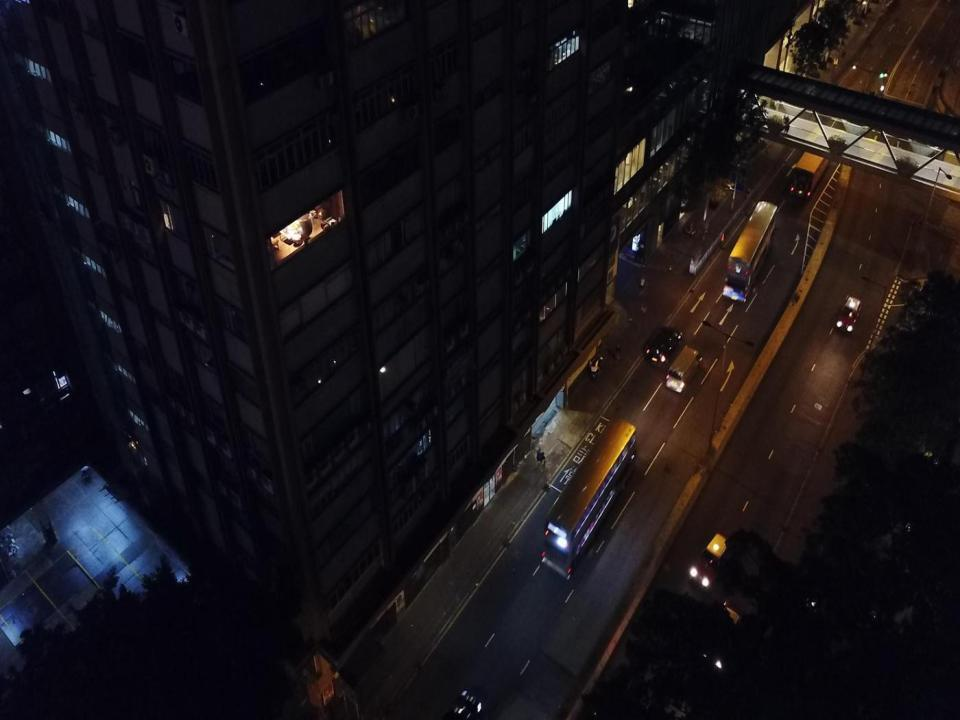bus: (542, 417, 637, 579), (722, 200, 777, 303), (788, 127, 836, 198)
car: (703, 604, 740, 674), (691, 532, 732, 591), (646, 326, 682, 366), (837, 295, 861, 333)
van: (666, 344, 702, 392)
